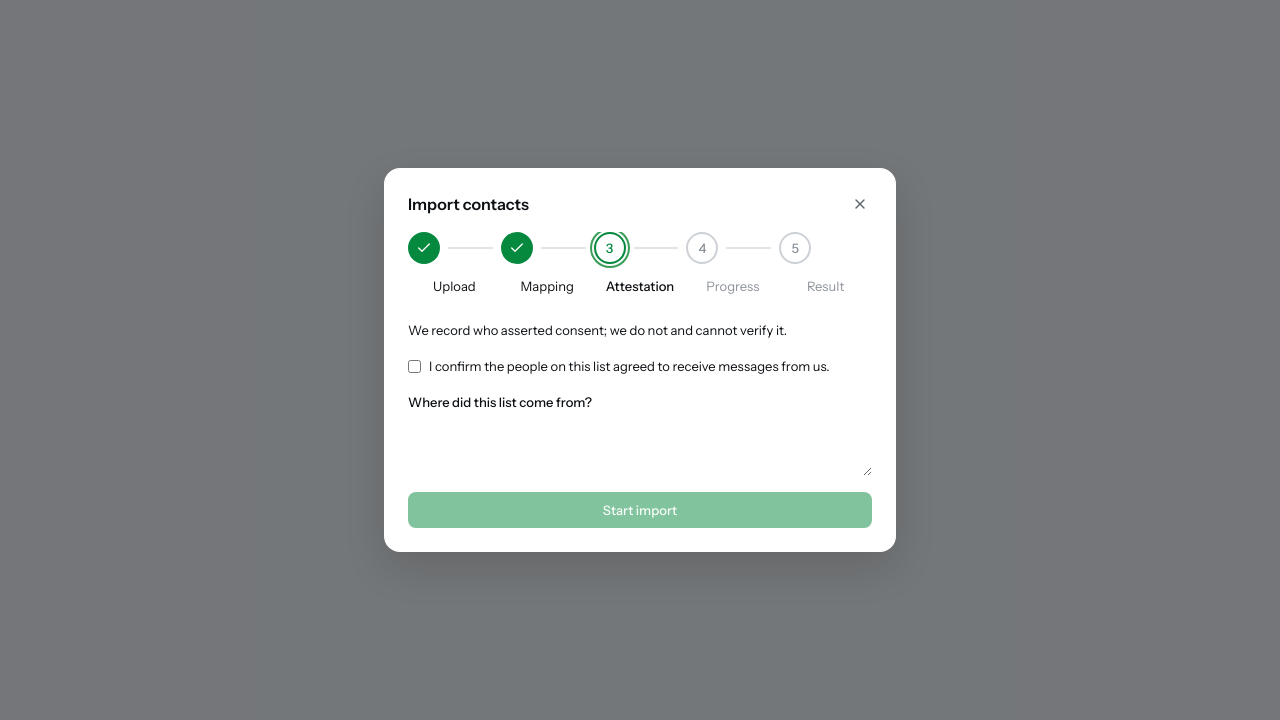
Test: ImportWizard attestation step › the_attestation_step_renders_the_verbatim_sentence_and_gates_the_start_button (en)
This screenshot has width=1280, height=720.
Expected: the text with test id "import-attestation-notice" reads "We record who asserted consent; we do not and cannot verify it.", [408,322,787,338]
Expected: the button with test id "import-attestation-start" is disabled, [408,492,872,528]
Click the checkbox with test id "import-attestation-checkbox" at (414, 366), box [408,360,421,372]
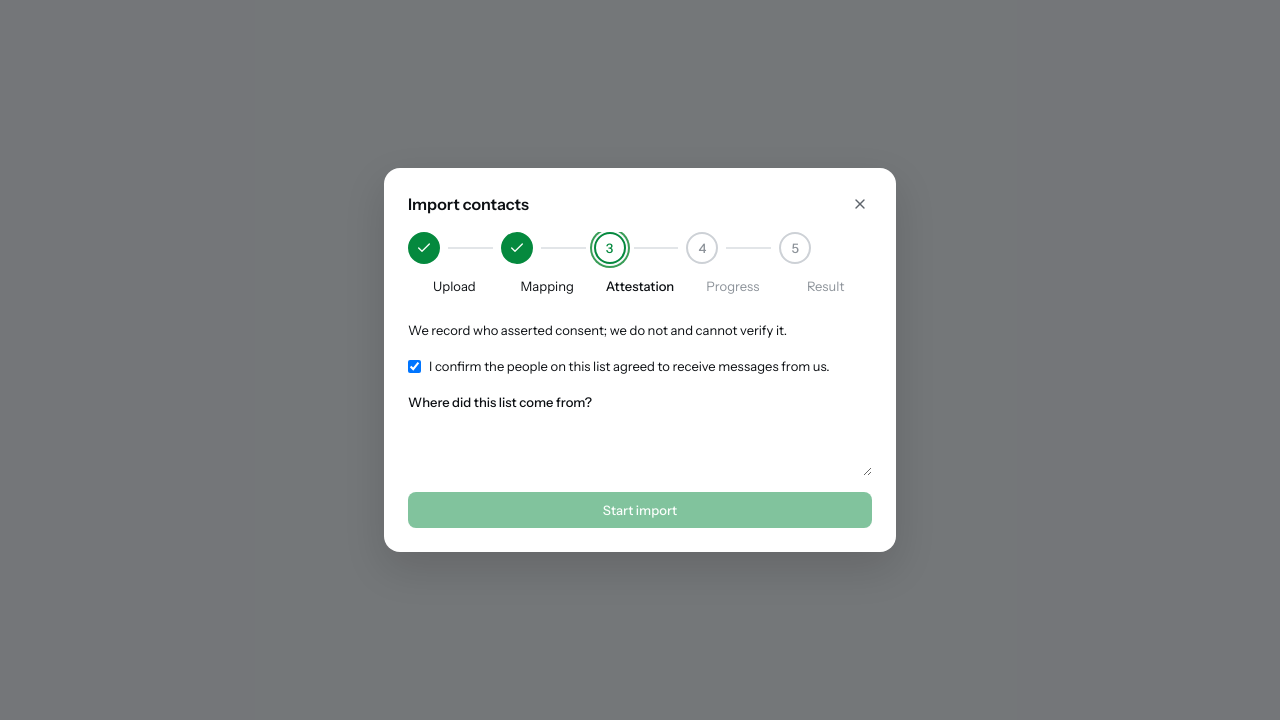
Expected: the button with test id "import-attestation-start" is disabled, [408,492,872,528]
Type "abc" into the text box with test id "import-attestation-source" at (640, 452), box [408,428,872,476]
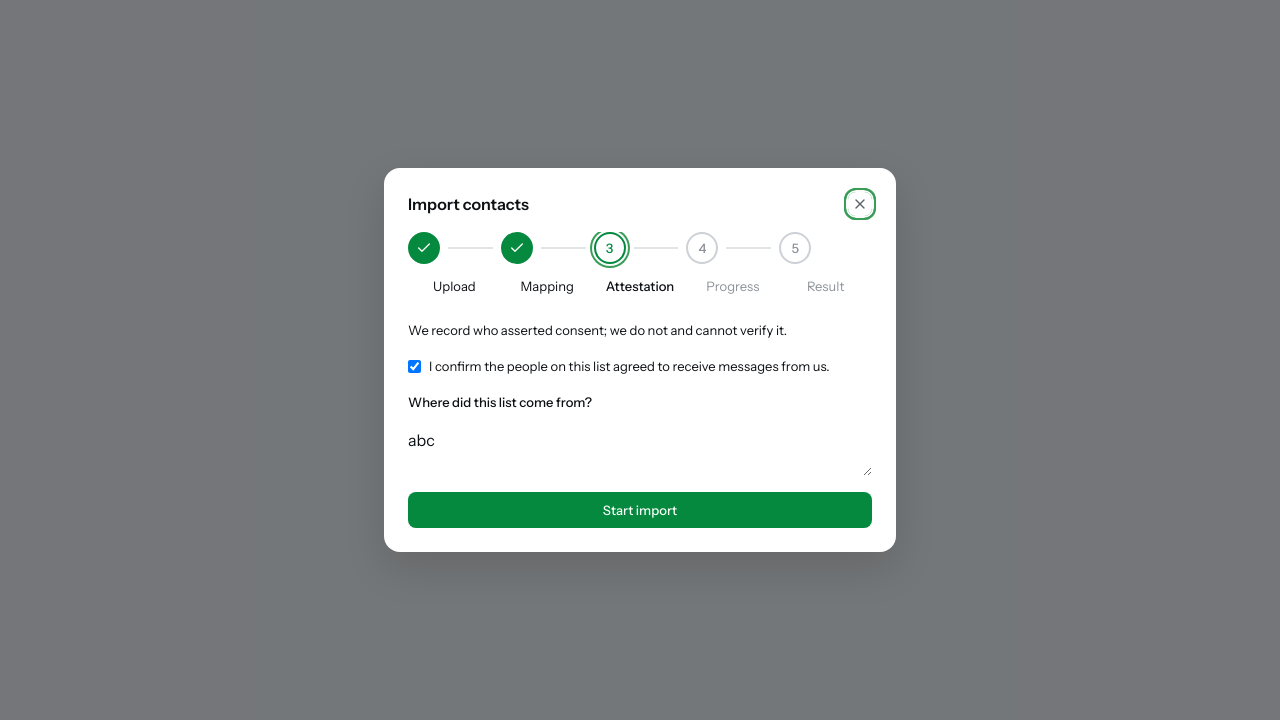
Now the button with test id "import-attestation-start" is enabled, box [408,492,872,528]
